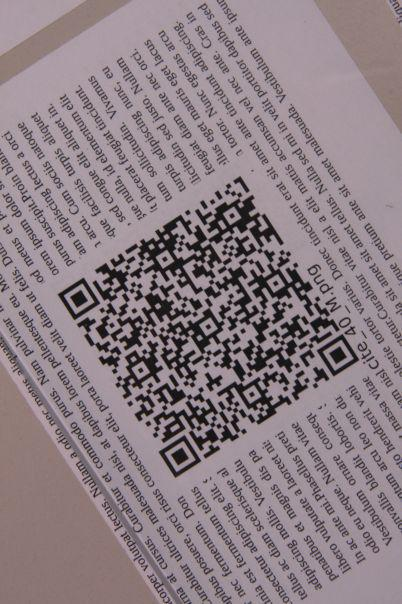Finder pattern: (55, 275, 101, 323), (158, 434, 202, 482), (319, 331, 361, 377)
